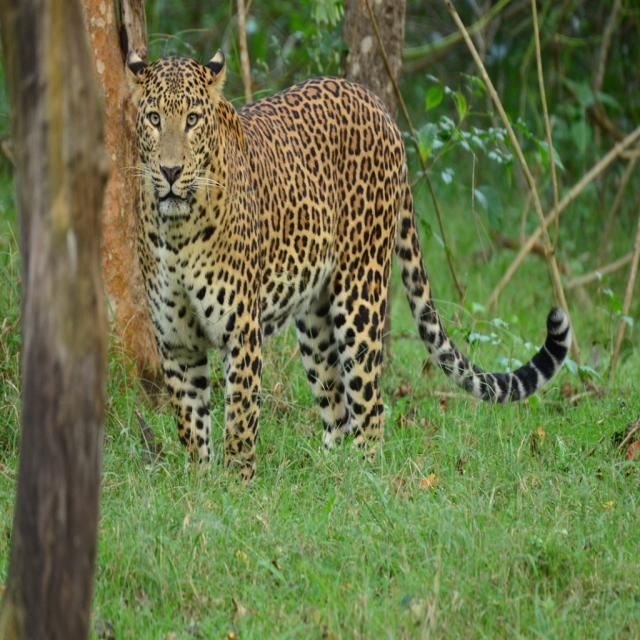Leopard: (120, 50, 569, 484)
